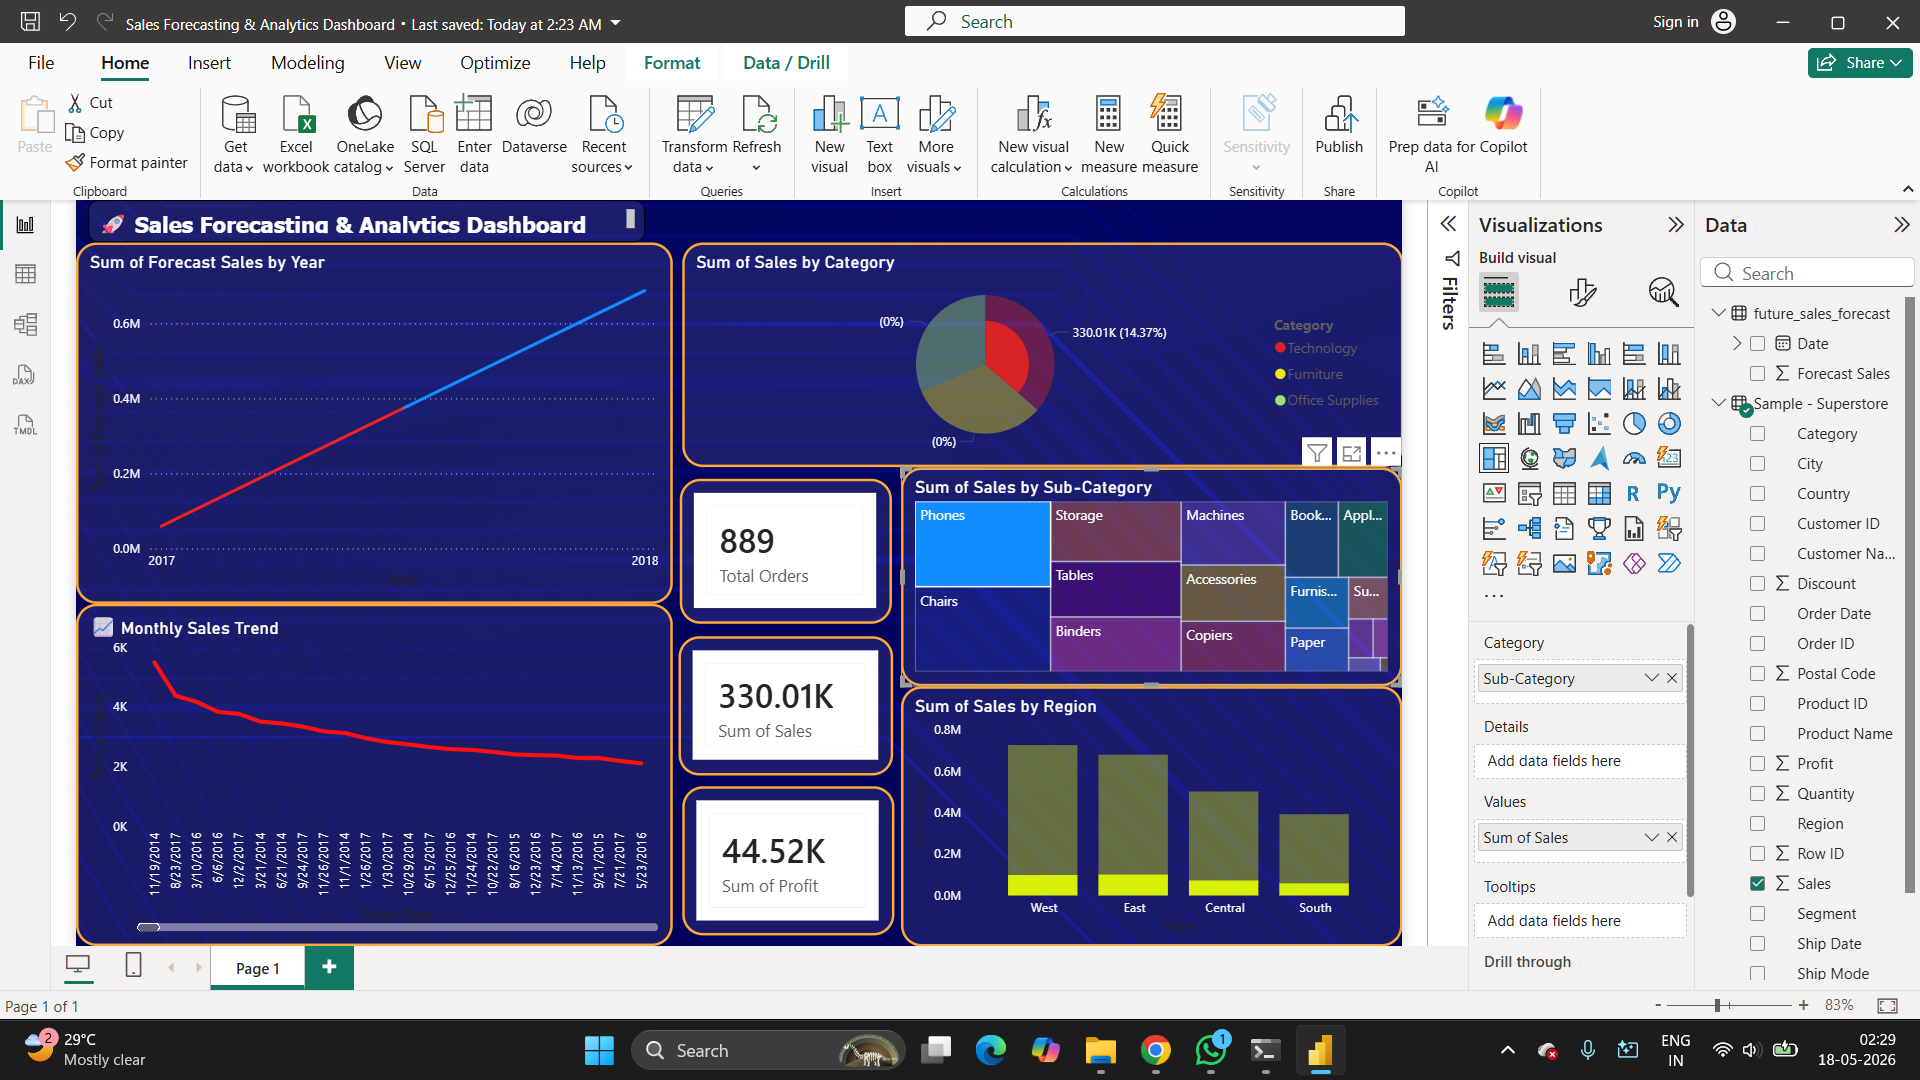

What the dashboard file says about the page in this screenshot:
{"tool":"powerbi","page":{"name":"Page 1","canvas":[1280,720],"ordinal":0},"visuals":[{"type":"cardVisual","fields":{"Data":["Sum(Sample - Superstore.Profit)"]},"box":[1064.8,5.5,204.5,150.9],"z":0},{"type":"cardVisual","fields":{"Data":["Sum(Sample - Superstore.Sales)"]},"box":[886.5,5.5,168.8,150.9],"z":1000},{"type":"cardVisual","fields":{"Data":["Sample - Superstore.Total Orders"]},"box":[712.2,5.5,168.8,150.9],"z":2000},{"type":"lineChart","title":"📈 Monthly Sales Trend","fields":{"Category":["Sample - Superstore.Order Date"],"Y":["Sum(Sample - Superstore.Sales)"]},"box":[12.1,41,690.1,359.5],"z":3000},{"type":"clusteredColumnChart","fields":{"Category":["Sample - Superstore.Region"],"Y":["Sum(Sample - Superstore.Sales)"]},"box":[626.1,410.2,643,299.2],"z":4000},{"type":"pieChart","fields":{"Category":["Sample - Superstore.Category"],"Y":["Sum(Sample - Superstore.Sales)"]},"box":[226.8,410.2,386.1,299.2],"z":5000},{"type":"slicer","fields":{"Values":["Sample - Superstore.Sub-Category","Sample - Superstore.Sales"]},"box":[12.3,410.3,205.8,299.1],"z":6000},{"type":"areaChart","fields":{"Category":["future_sales_forecast.Date.Variation.Date Hierarchy.Year","future_sales_forecast.Date.Variation.Date Hierarchy.Month","future_sales_forecast.Date.Variation.Date Hierarchy.Day"],"Y":["Sum(future_sales_forecast.Forecast Sales)"]},"box":[711.8,160.5,557.4,240.1],"z":7000},{"type":"textbox","box":[12.3,0,536.5,41.2],"z":8000}]}

Visuals, with their boxes on the page's 1280x720 design canvas (x1, y1, x2, y2). These are canvas units, not pixel positions in the 1920x1080 screenshot, which may show the page scaled, cropped or inside an application window:
cardVisual - Sum(Sample - Superstore.Profit): detection(1065, 6, 1269, 156)
cardVisual - Sum(Sample - Superstore.Sales): detection(886, 6, 1055, 156)
cardVisual - Sample - Superstore.Total Orders: detection(712, 6, 881, 156)
"📈 Monthly Sales Trend" lineChart: detection(12, 41, 702, 400)
clusteredColumnChart - Sample - Superstore.Region x Sum(Sample - Superstore.Sales): detection(626, 410, 1269, 709)
pieChart - Sample - Superstore.Category x Sum(Sample - Superstore.Sales): detection(227, 410, 613, 709)
slicer - Sample - Superstore.Sub-Category x Sample - Superstore.Sales: detection(12, 410, 218, 709)
areaChart - future_sales_forecast.Date.Variation.Date Hierarchy.Year x future_sales_forecast.Date.Variation.Date Hierarchy.Month: detection(712, 160, 1269, 401)
textbox: detection(12, 0, 549, 41)
